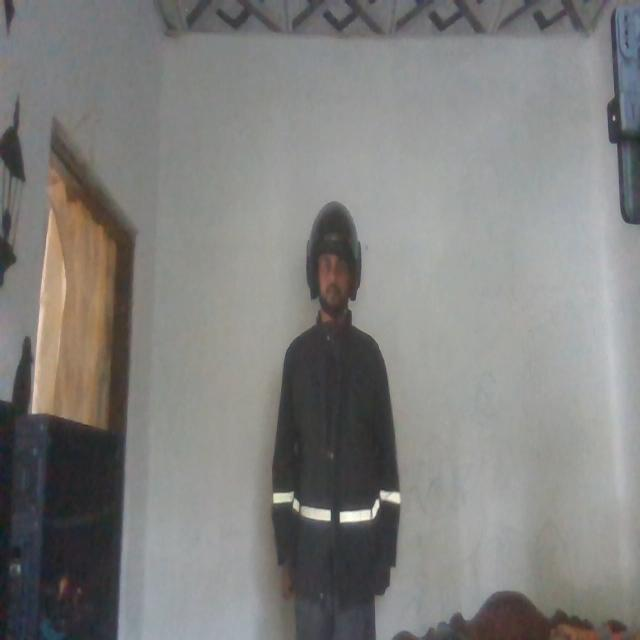Helmet_Wearer: (300, 202, 366, 324)
Jacket_Wearer: (276, 322, 398, 596)
Person: (274, 201, 402, 635)
